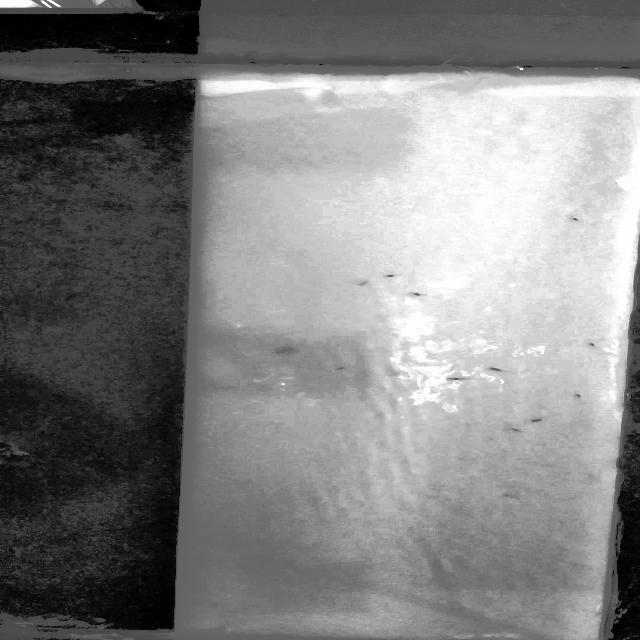shrimp: (480, 358, 523, 374), (553, 212, 594, 224), (580, 335, 607, 353), (441, 373, 472, 386), (565, 388, 589, 402), (406, 288, 432, 300), (379, 272, 408, 282), (528, 414, 550, 427), (507, 421, 527, 435)
